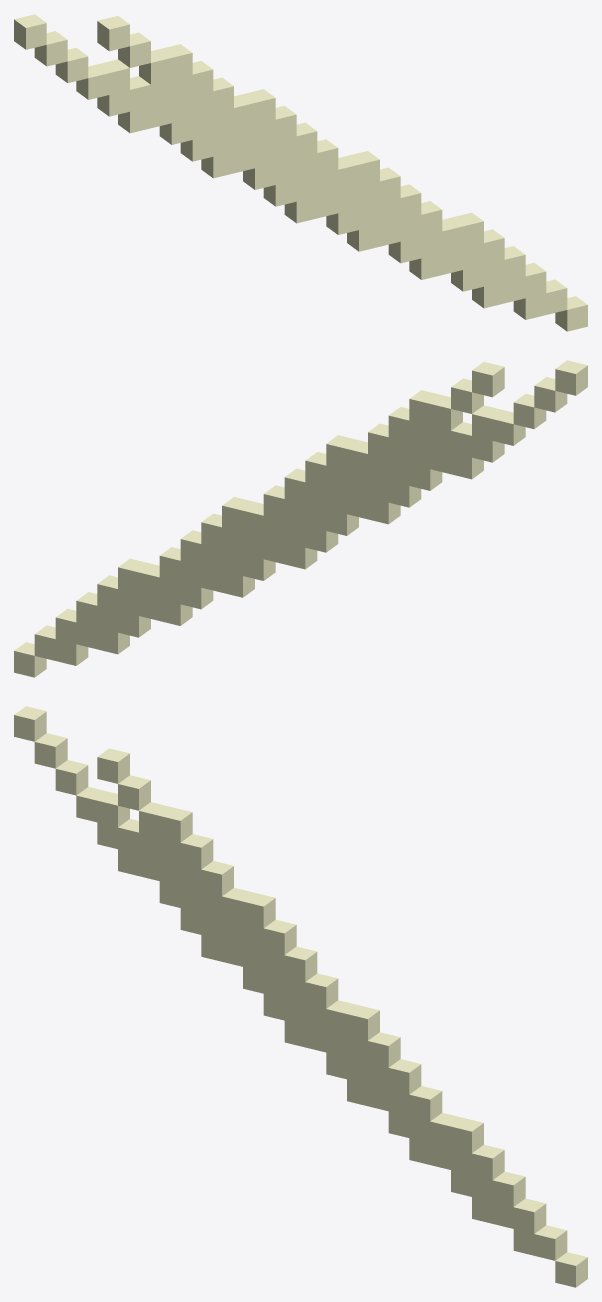
File: Fight_725_2_05_fx.obj
3 views of the same model, one above another, from view 1: azimuth 30°, elevation 25°; view 2: azimuth 150°, elevation 25°; view 3: azimuth 330°, elevation 25° (orthographic).
Size of the model in its own units: 2.7 by 2 by 0.1.
1 material, 1 textured.
